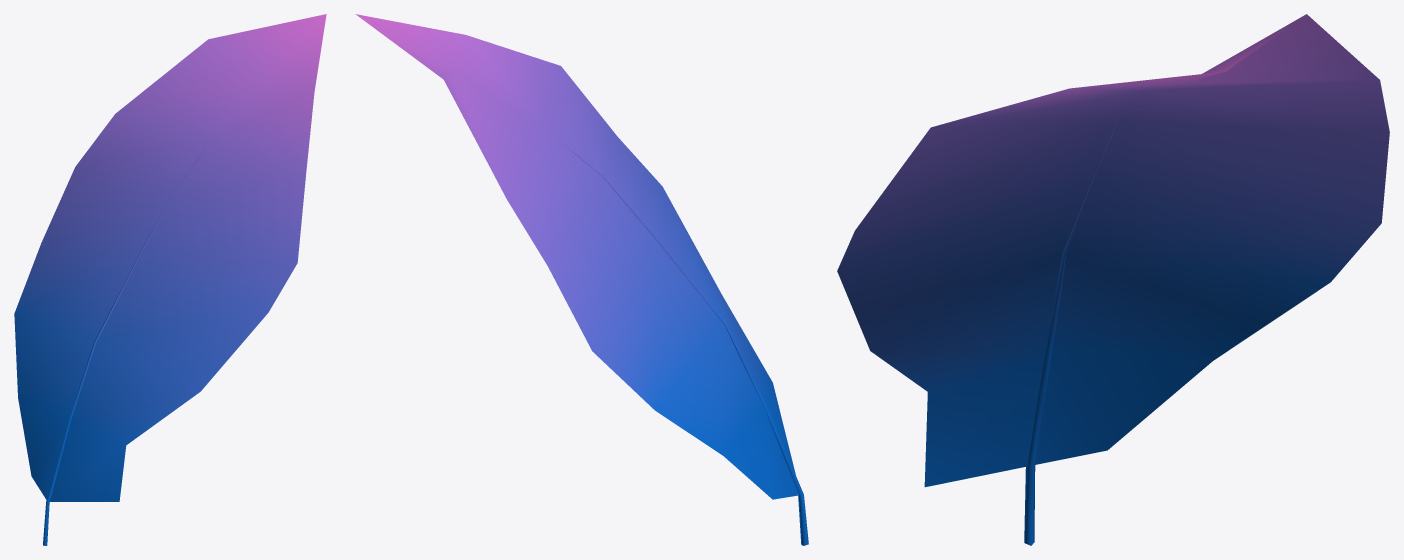
The model's file is Lady_Fern_wdvlditia_Mid_wdvlditia_VarD_LOD1.fbx.
3 views of the same model, side by side, from view 1: azimuth 30°, elevation 25°; view 2: azimuth 150°, elevation 25°; view 3: azimuth 270°, elevation 25° (orthographic). The views are drawn at different scales.
Parts seen in each view (by area): view 1: _96bd_VarD_LOD4; view 2: _96bd_VarD_LOD4; view 3: _96bd_VarD_LOD4.
Part boxes in pixels (x1=…): _96bd_VarD_LOD4: x1=14, y1=14, x2=326, y2=545; _96bd_VarD_LOD4: x1=355, y1=14, x2=808, y2=545; _96bd_VarD_LOD4: x1=837, y1=14, x2=1389, y2=545.
Size of the model in its own units: 65.95 by 77.22 by 49.58.
